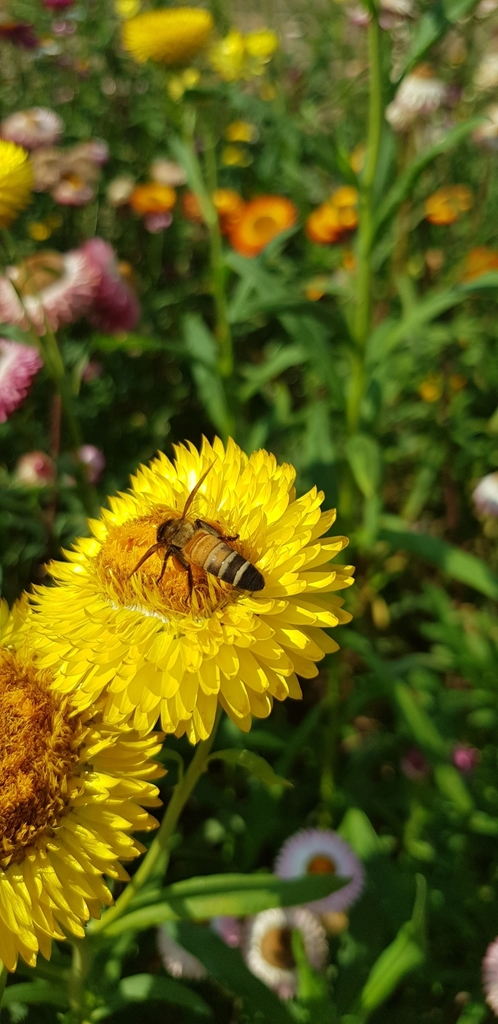not_bumblebee: (123, 458, 266, 601)
